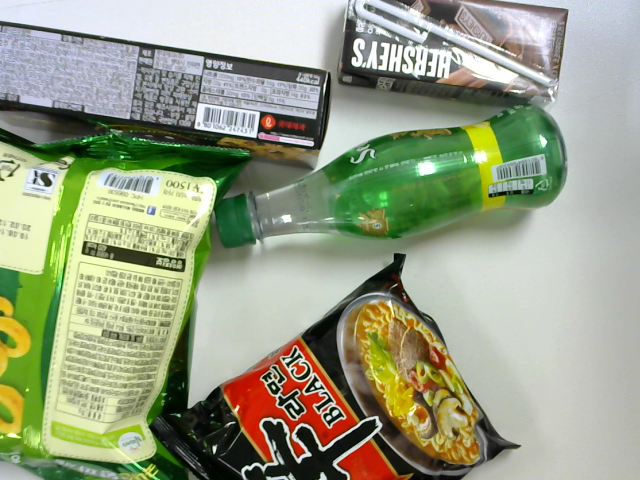Chicchok_Original_2400: (5, 10, 333, 164)
Grilled_Onions: (3, 130, 244, 480)
Hush_Choco_Drink: (339, 8, 579, 104)
Seagram_Lemon_Carbonated_Water: (205, 88, 567, 248)
Sinramen_Black: (179, 250, 526, 480)
